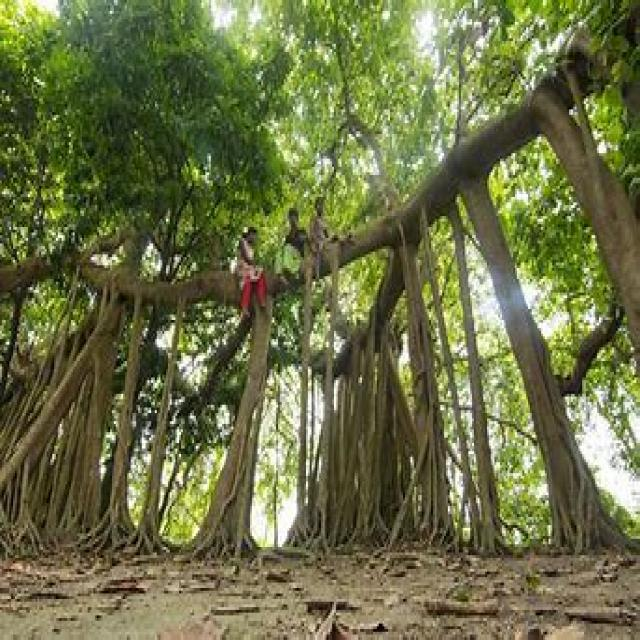Banyan-Tree: (0, 0, 640, 640), (18, 238, 639, 568)
